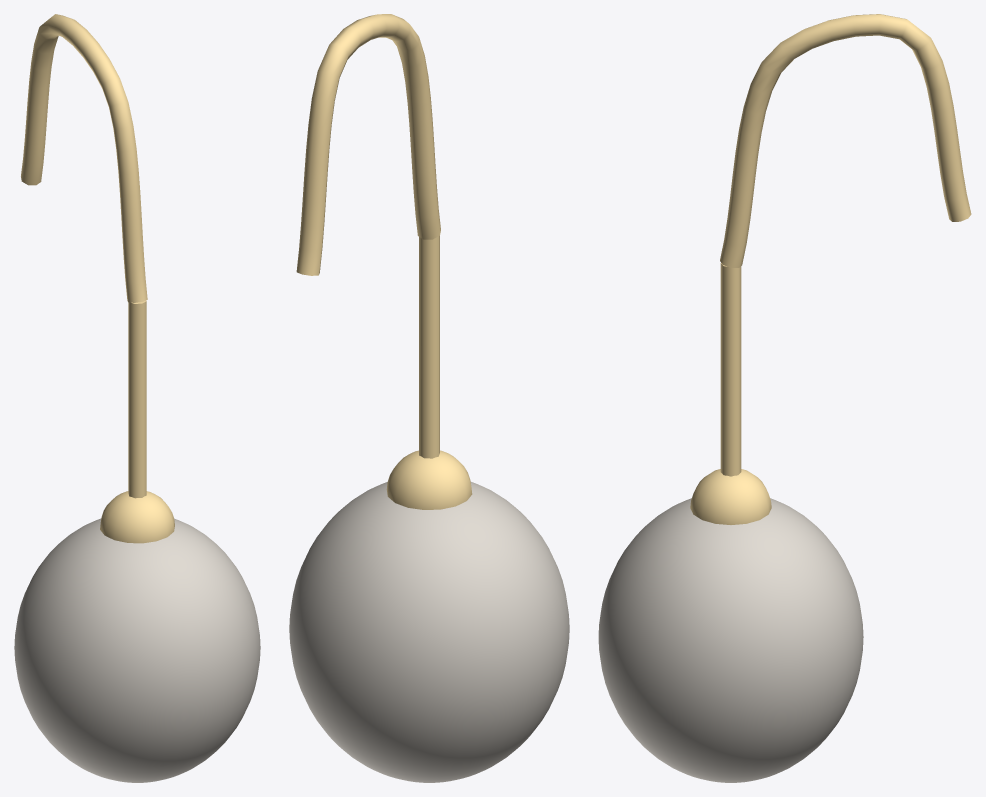
File: earring-pearl.glb
3 views of the same model, side by side, from view 1: azimuth 30°, elevation 25°; view 2: azimuth 150°, elevation 25°; view 3: azimuth 270°, elevation 25° (orthographic). The views are drawn at different scales.
Visible parts, largest first — view 1: pearl, hook, drop; view 2: pearl, hook, drop; view 3: pearl, hook, drop.
Part boxes in pixels (bbox=[...]): pearl: bbox=[14, 518, 260, 782]; hook: bbox=[21, 14, 147, 302]; drop: bbox=[100, 300, 174, 543]; pearl: bbox=[289, 482, 569, 782]; hook: bbox=[296, 14, 440, 275]; drop: bbox=[386, 236, 472, 509]; pearl: bbox=[598, 498, 863, 782]; hook: bbox=[720, 14, 971, 267]; drop: bbox=[690, 263, 771, 524].
Bounding box in the file's own units: 0.0104 × 0.0328 × 0.0146.
